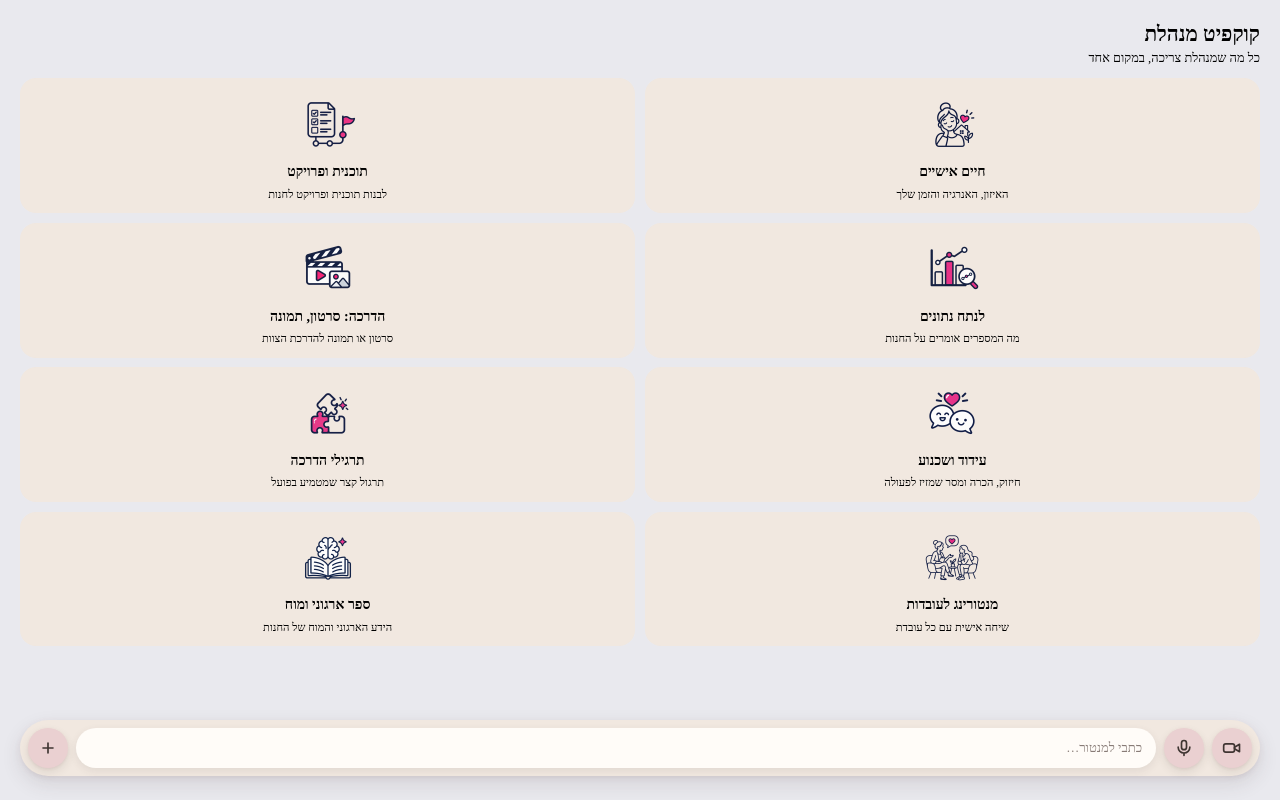
Test: the cockpit › admits a tool is not connected instead of ignoring a press
Expected: the text "לא מחובר" is not shown
Click the button "לנתח נתונים מה המספרים אומרים על החנות" at (952, 290), box [645,223,1260,358]
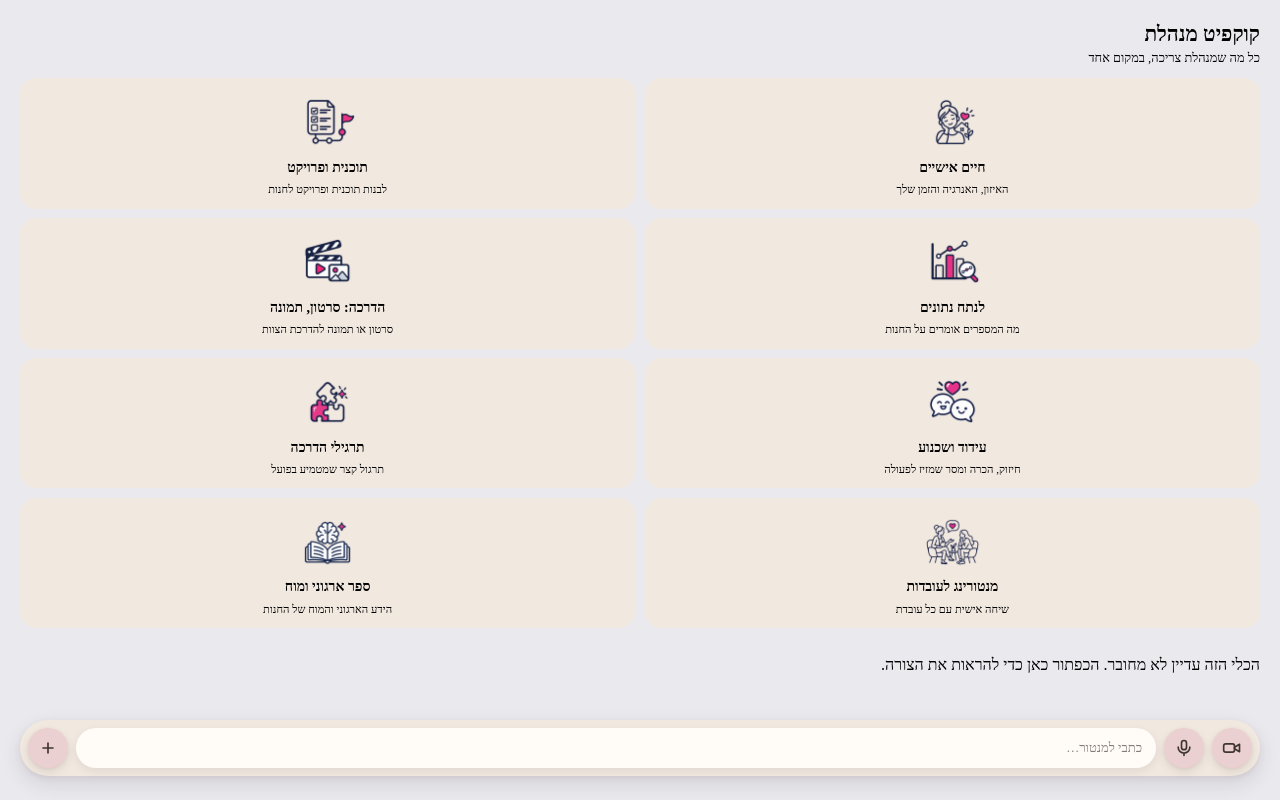
Now the text "הכלי הזה עדיין לא מחובר. הכפתור כאן כדי להראות את הצורה." is shown, box [881,656,1260,673]
